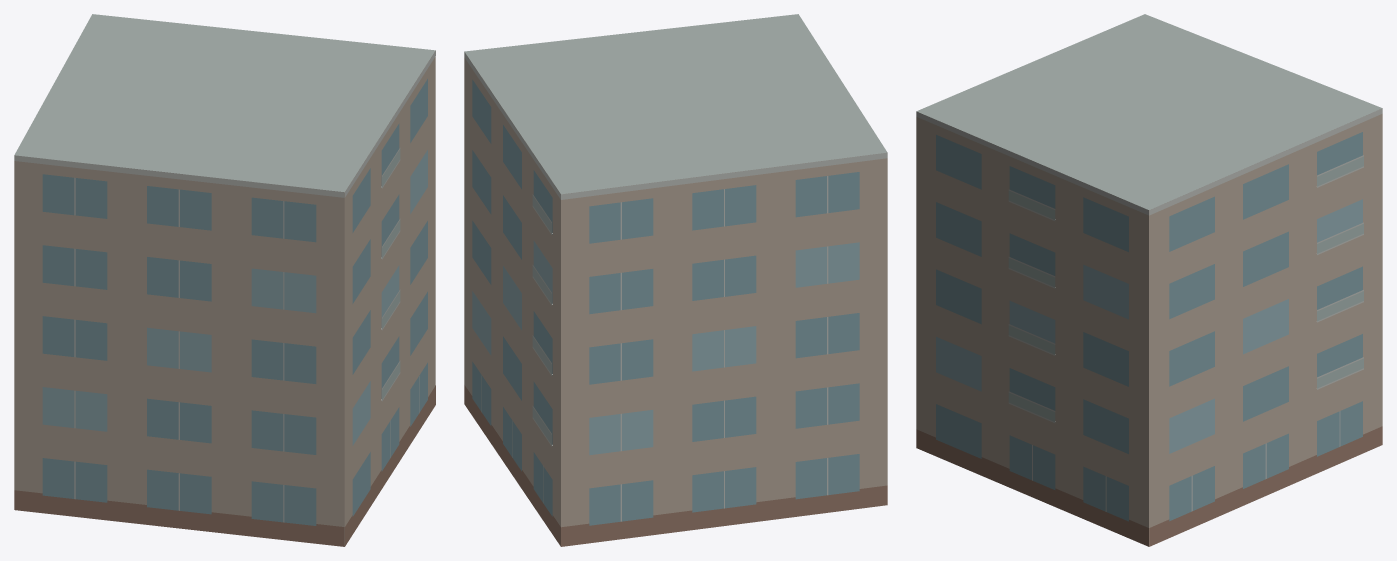
The model's file is survey-upis-32933957.glb.
3 views of the same model, side by side, from view 1: azimuth 30°, elevation 25°; view 2: azimuth 150°, elevation 25°; view 3: azimuth 270°, elevation 25° (orthographic). The views are drawn at different scales.
Parts seen in each view (by area): view 1: survey-upis-32933957.tmp; view 2: survey-upis-32933957.tmp; view 3: survey-upis-32933957.tmp.
Part boxes in pixels (x1,y1,x2,y2): survey-upis-32933957.tmp: (14,14,435,546); survey-upis-32933957.tmp: (464,14,887,546); survey-upis-32933957.tmp: (916,14,1382,546).
Bounding box in the file's own units: 19.14 × 15.3 × 19.22.
